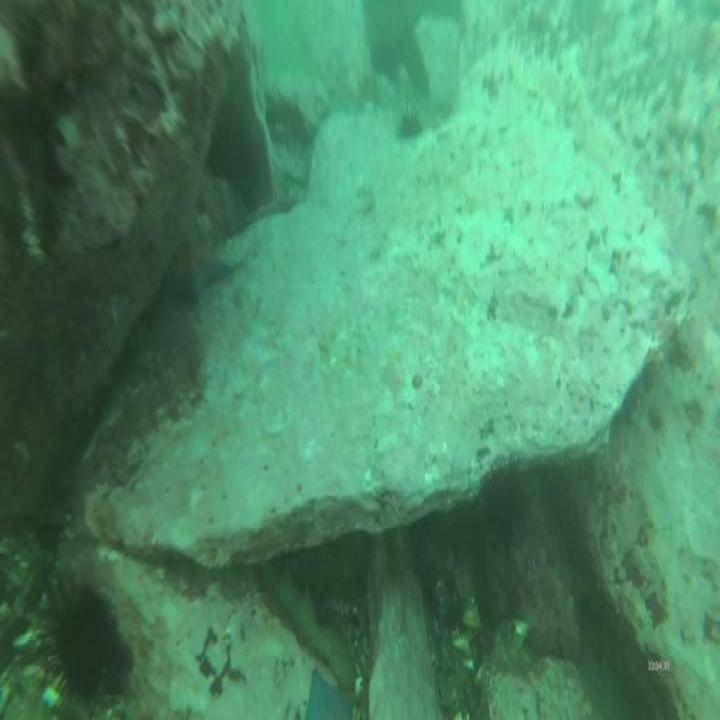echinus: (52, 596, 124, 700)
starfish: (171, 242, 233, 306)
